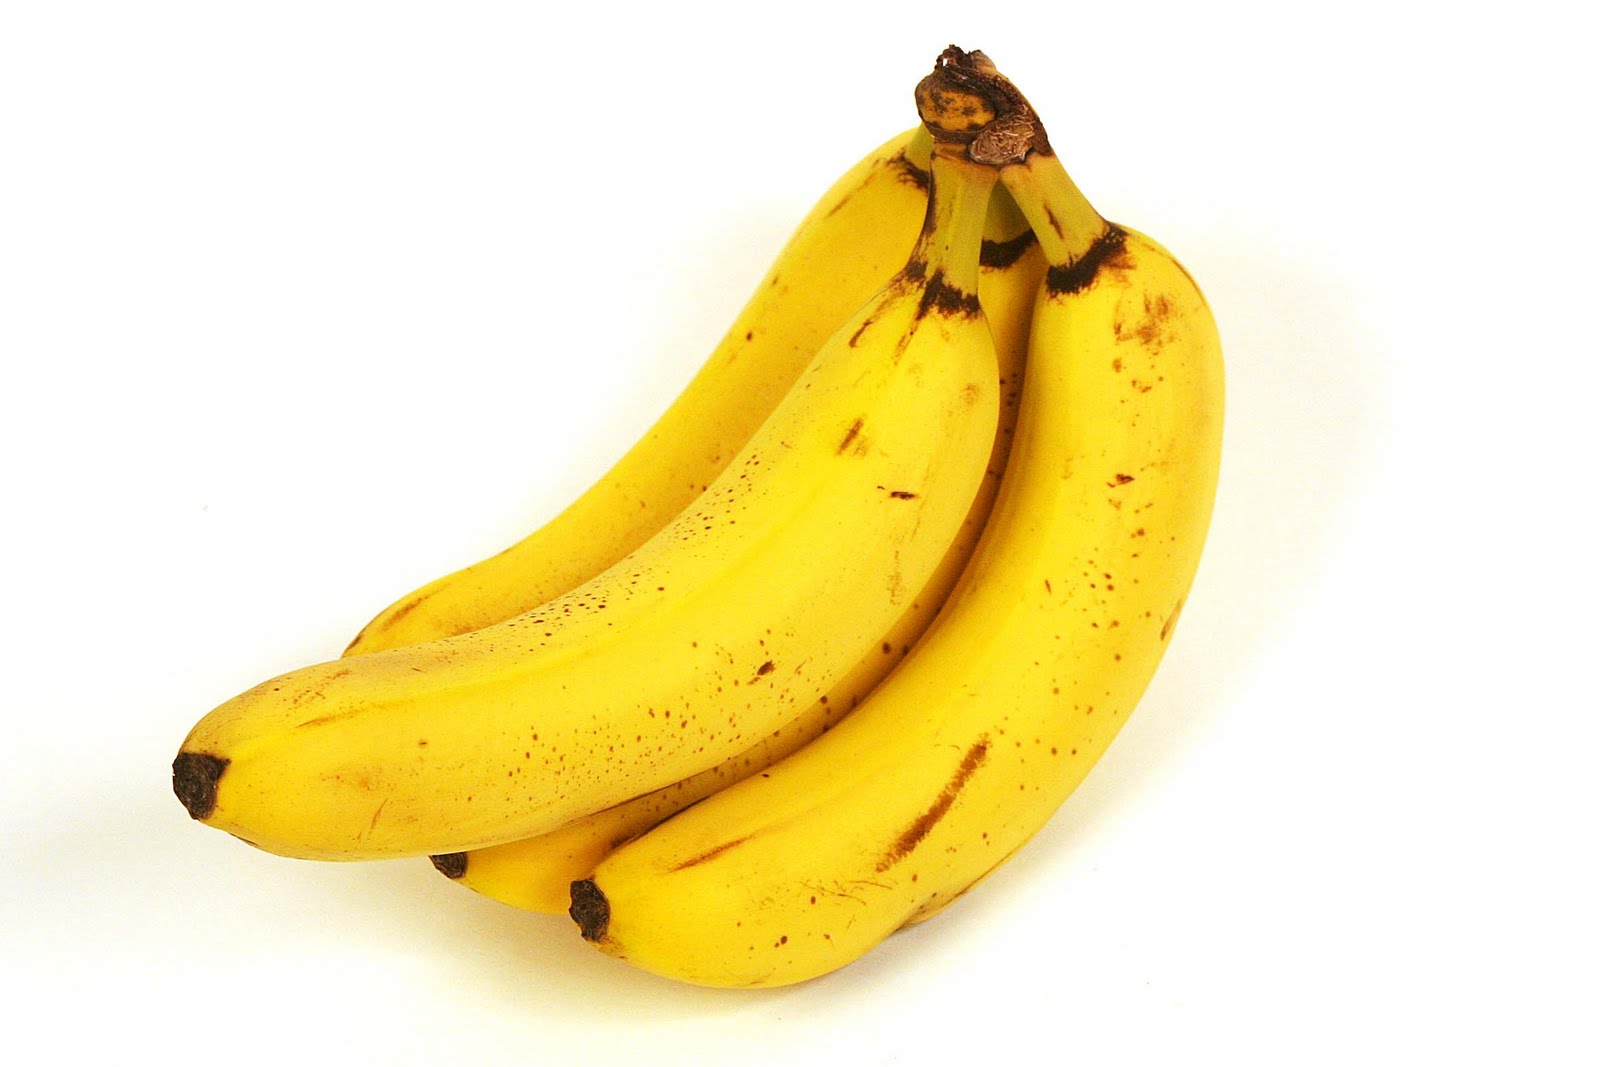Banana: (169, 155, 998, 862), (571, 188, 1223, 991)
